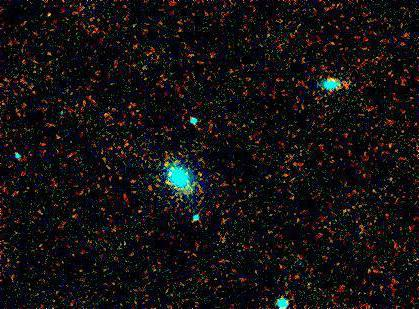star: (34, 0, 64, 28)
